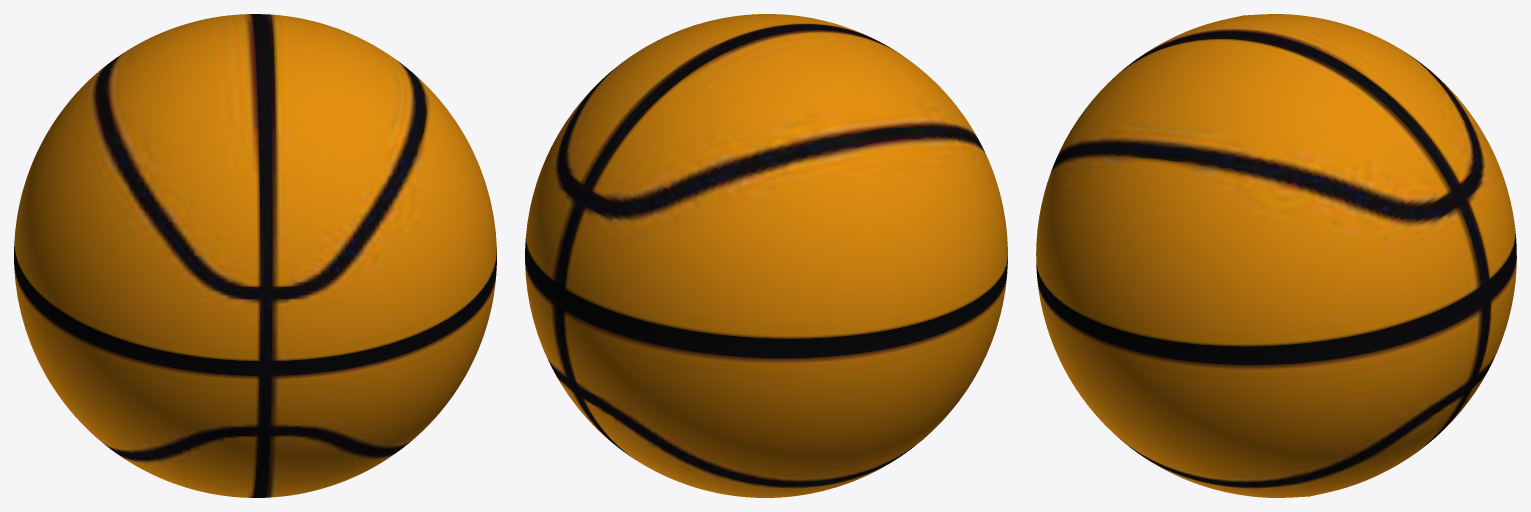
File: basketball.glb
The picture shows the model from 3 angles, left to right: view 1: azimuth 30°, elevation 25°; view 2: azimuth 150°, elevation 25°; view 3: azimuth 270°, elevation 25°; orthographic projection.
Parts seen in each view (by area): view 1: Sphere; view 2: Sphere; view 3: Sphere.
Boxes of the visible parts, x1,y1,x2,y2 form: Sphere: (14, 14, 496, 497); Sphere: (525, 14, 1007, 497); Sphere: (1036, 14, 1516, 497).
Bounding box in the file's own units: 1.98 × 1.99 × 1.98.
Materials: 1 (1 with a texture image).
